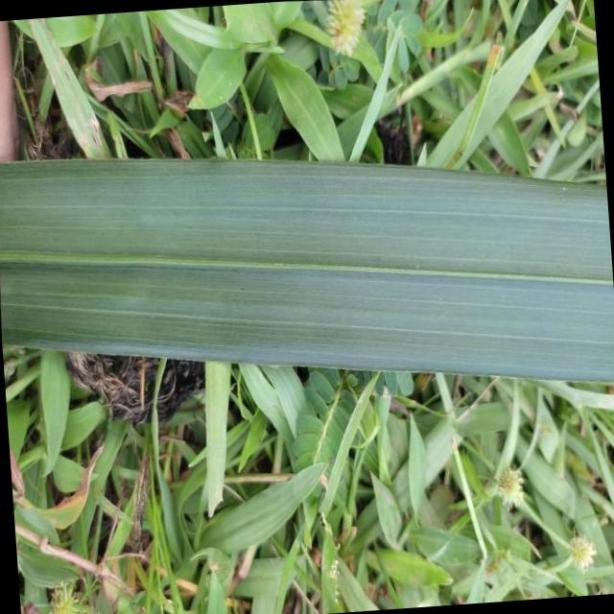Healthy: (1, 158, 614, 386)
